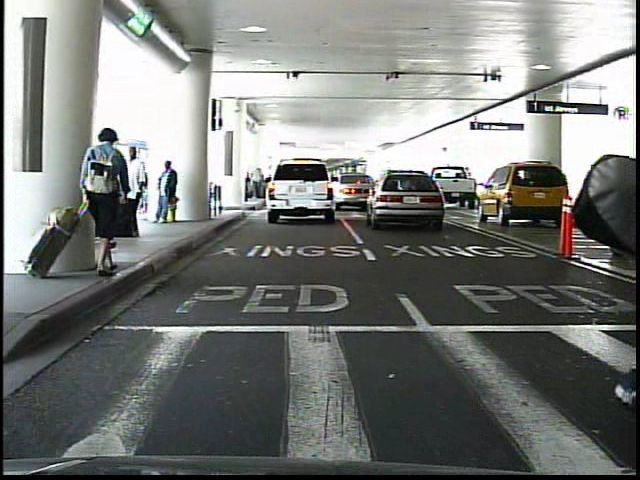person: (82, 125, 132, 280), (118, 145, 146, 239), (155, 161, 182, 229), (581, 165, 596, 213), (596, 166, 609, 211)
